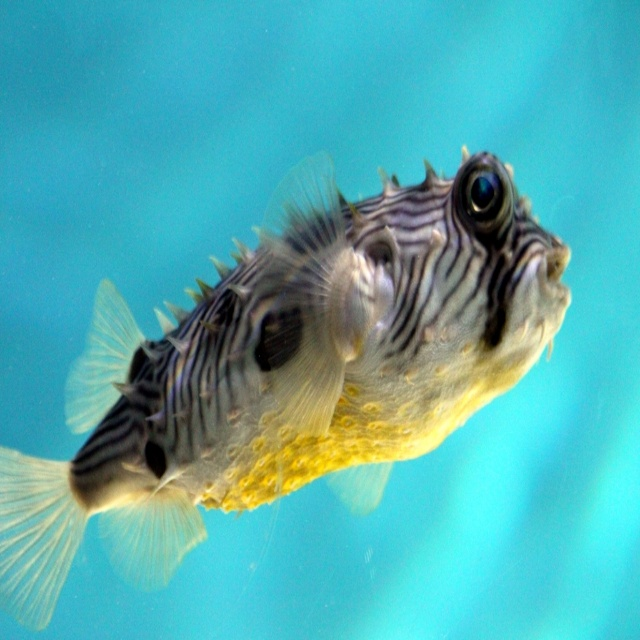Fish: (0, 145, 571, 632)
